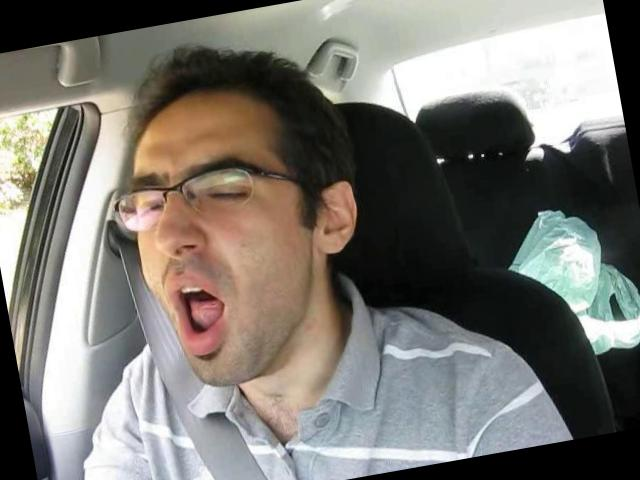eye_closed: (202, 175, 254, 210), (128, 193, 169, 225)
face: (116, 123, 318, 400)
mouth_open: (164, 270, 238, 360)
